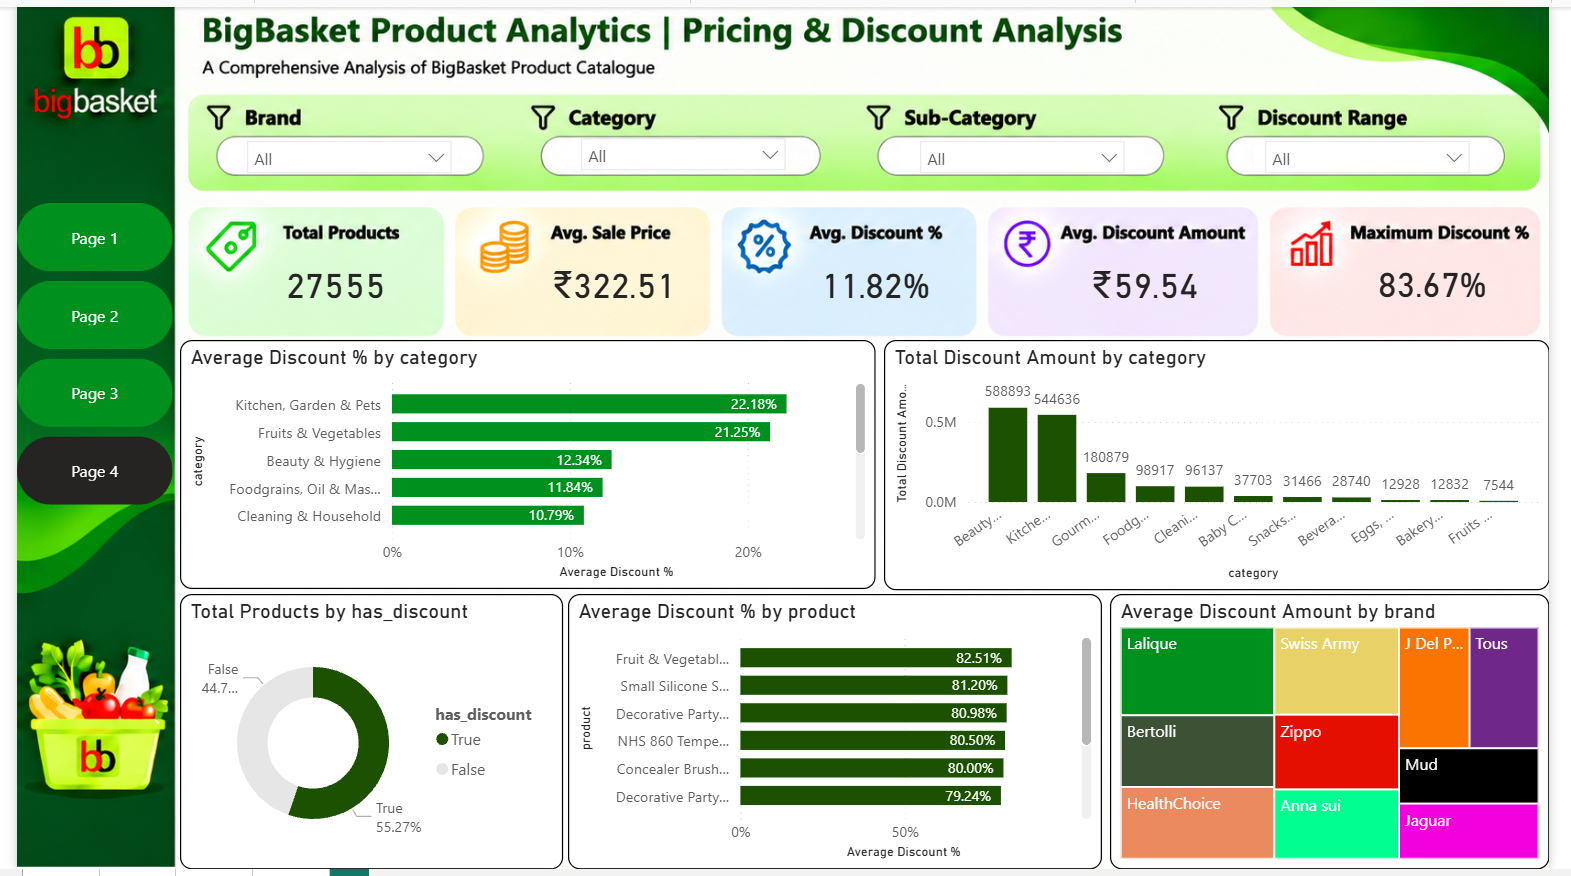

What the dashboard file says about the page in this screenshot:
{"tool":"powerbi","page":{"name":"Page 4","canvas":[1280,720],"ordinal":3},"visuals":[{"type":"card","fields":{"Values":["DAX_Measures.Total Products"]},"box":[203.4,201.6,125,60.2],"z":0},{"type":"card","fields":{"Values":["DAX_Measures.Average Sale Price"]},"box":[436.1,201.6,125,60.2],"z":1},{"type":"card","fields":{"Values":["DAX_Measures.Average Discount %"]},"box":[655.1,201.6,125,60.2],"z":2},{"type":"card","fields":{"Values":["DAX_Measures.Average Discount Amount"]},"box":[879.5,201.6,125,60.2],"z":3},{"type":"card","fields":{"Values":["DAX_Measures.Maximum Discount %"]},"box":[1113,200.7,137.8,60.2],"z":4},{"type":"donutChart","fields":{"Category":["Products.has_discount"],"Y":["DAX_Measures.Total Products"]},"box":[135.9,489.9,320.2,229.9],"z":5},{"type":"clusteredBarChart","fields":{"Category":["Products.category"],"Y":["DAX_Measures.Average Discount %"]},"box":[135.8,277.8,581.4,208.3],"z":6},{"type":"clusteredBarChart","fields":{"Category":["Products.product"],"Y":["DAX_Measures.Average Discount %"]},"box":[459.8,489.9,446.1,229.9],"z":7},{"type":"treemap","fields":{"Values":["DAX_Measures.Average Discount Amount"],"Group":["Products.brand"]},"box":[913.1,490.2,366.9,230.1],"z":8},{"type":"clusteredColumnChart","fields":{"Y":["DAX_Measures.Total Discount Amount"],"Category":["Products.category"]},"box":[724.5,277.8,555.5,209.4],"z":9},{"type":"shape","box":[178.3,113,190.7,20.7],"z":10},{"type":"shape","box":[1032.3,113,190.7,20.7],"z":11},{"type":"shape","box":[734.8,113,207.3,20.7],"z":12},{"type":"shape","box":[456,113,190.7,20.7],"z":13},{"type":"slicer","fields":{"Values":["Products.brand"]},"box":[182.4,101.6,190.7,42.5],"z":14},{"type":"slicer","fields":{"Values":["Products.Discount Range"]},"box":[1032.3,101.6,190.7,42.5],"z":15},{"type":"slicer","fields":{"Values":["Products.sub_category"]},"box":[744.2,101.6,190.7,42.5],"z":16},{"type":"slicer","fields":{"Values":["Products.category"]},"box":[461.2,99.5,190.7,42.5],"z":17},{"type":"pageNavigator","box":[0,163.8,130.6,253.9],"z":18}]}

Visuals, with their boxes on the page's 1280x720 design canvas (x1, y1, x2, y2). These are canvas units, not pixel positions in the 1571x876 screenshot, which may show the page scaled, cropped or inside an application window:
card - DAX_Measures.Total Products: 203,202,328,262
card - DAX_Measures.Average Sale Price: 436,202,561,262
card - DAX_Measures.Average Discount %: 655,202,780,262
card - DAX_Measures.Average Discount Amount: 880,202,1004,262
card - DAX_Measures.Maximum Discount %: 1113,201,1251,261
donutChart - Products.has_discount x DAX_Measures.Total Products: 136,490,456,720
clusteredBarChart - Products.category x DAX_Measures.Average Discount %: 136,278,717,486
clusteredBarChart - Products.product x DAX_Measures.Average Discount %: 460,490,906,720
treemap - DAX_Measures.Average Discount Amount x Products.brand: 913,490,1280,720
clusteredColumnChart - DAX_Measures.Total Discount Amount x Products.category: 724,278,1280,487
shape: 178,113,369,134
shape: 1032,113,1223,134
shape: 735,113,942,134
shape: 456,113,647,134
slicer - Products.brand: 182,102,373,144
slicer - Products.Discount Range: 1032,102,1223,144
slicer - Products.sub_category: 744,102,935,144
slicer - Products.category: 461,100,652,142
pageNavigator: 0,164,131,418
